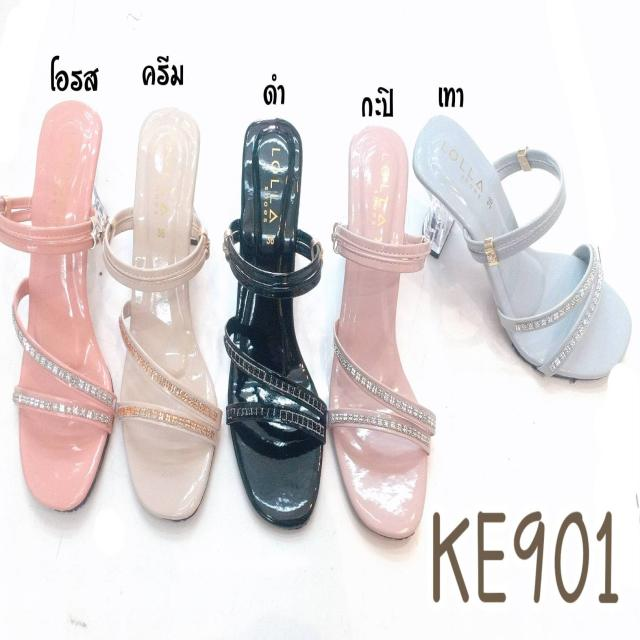black: (230, 116, 324, 519)
cream: (122, 104, 218, 519)
grey: (410, 111, 629, 391)
kapi: (326, 126, 431, 537)
orot: (19, 102, 110, 498)
